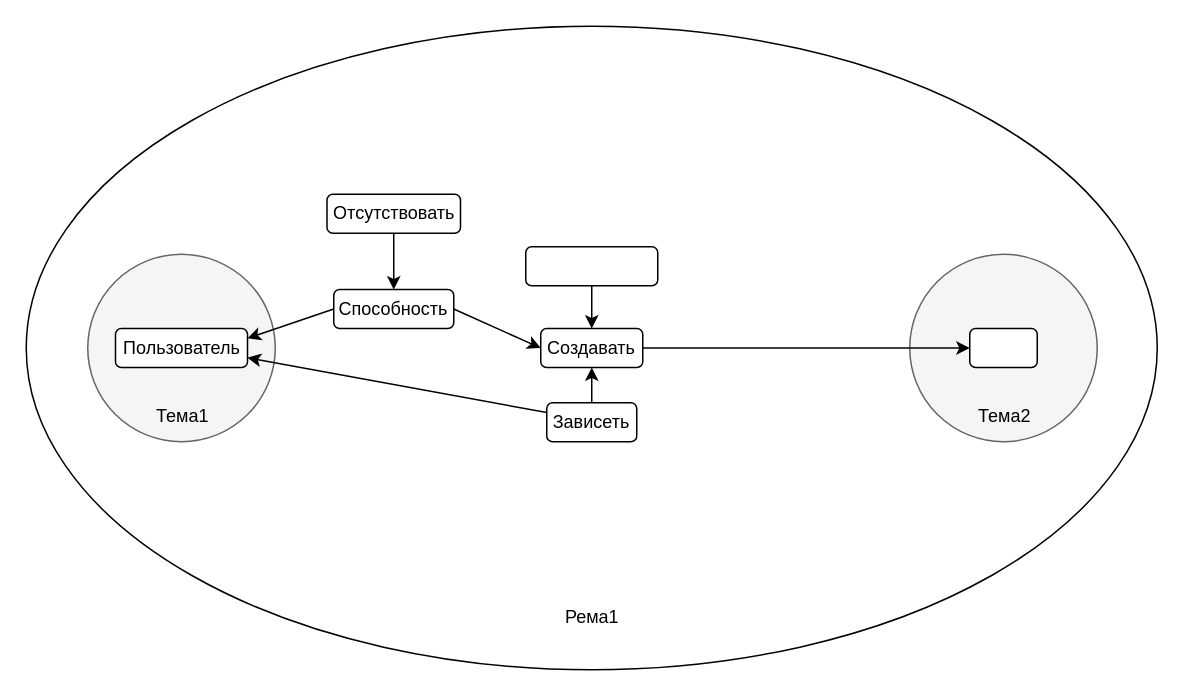
Image size: 1184x696. Some labels were removed from this diagram. The shapes that lost their labels are listed below. From the top down, each one's centre as x and y in pixels, then its label:
At point 591,265: "Однократно".
At point 1002,347: "Файл".
